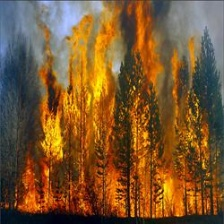fire: (12, 8, 220, 212)
